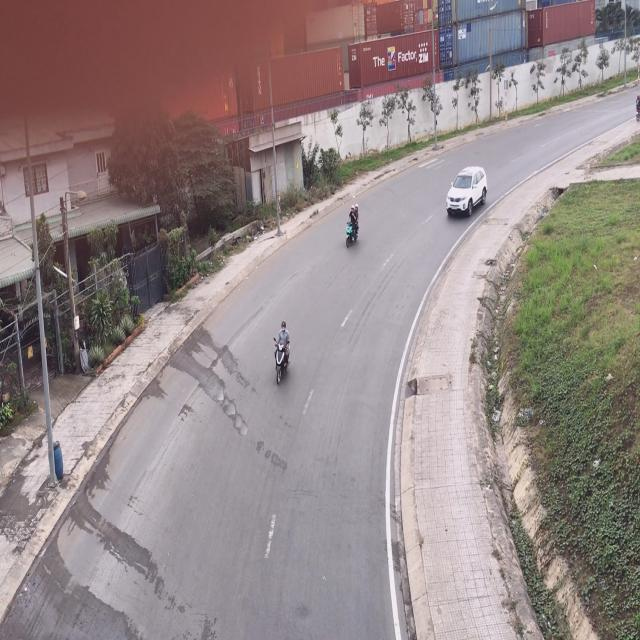car: (444, 170, 486, 222)
motorbike: (274, 319, 293, 385), (343, 201, 362, 251), (635, 90, 640, 124)
